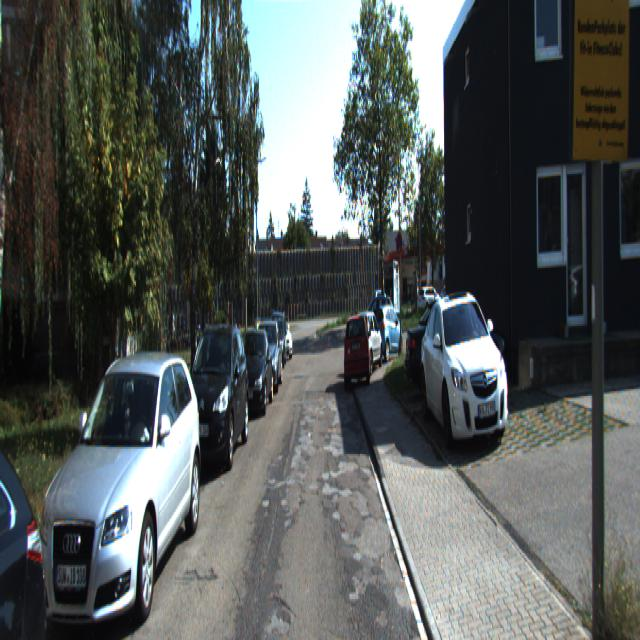Car: (30, 345, 204, 638), (0, 358, 62, 638), (419, 282, 514, 447), (405, 280, 508, 392), (179, 318, 250, 474), (235, 318, 274, 416), (342, 304, 372, 389), (251, 317, 283, 396), (350, 308, 384, 376), (369, 300, 404, 362)
